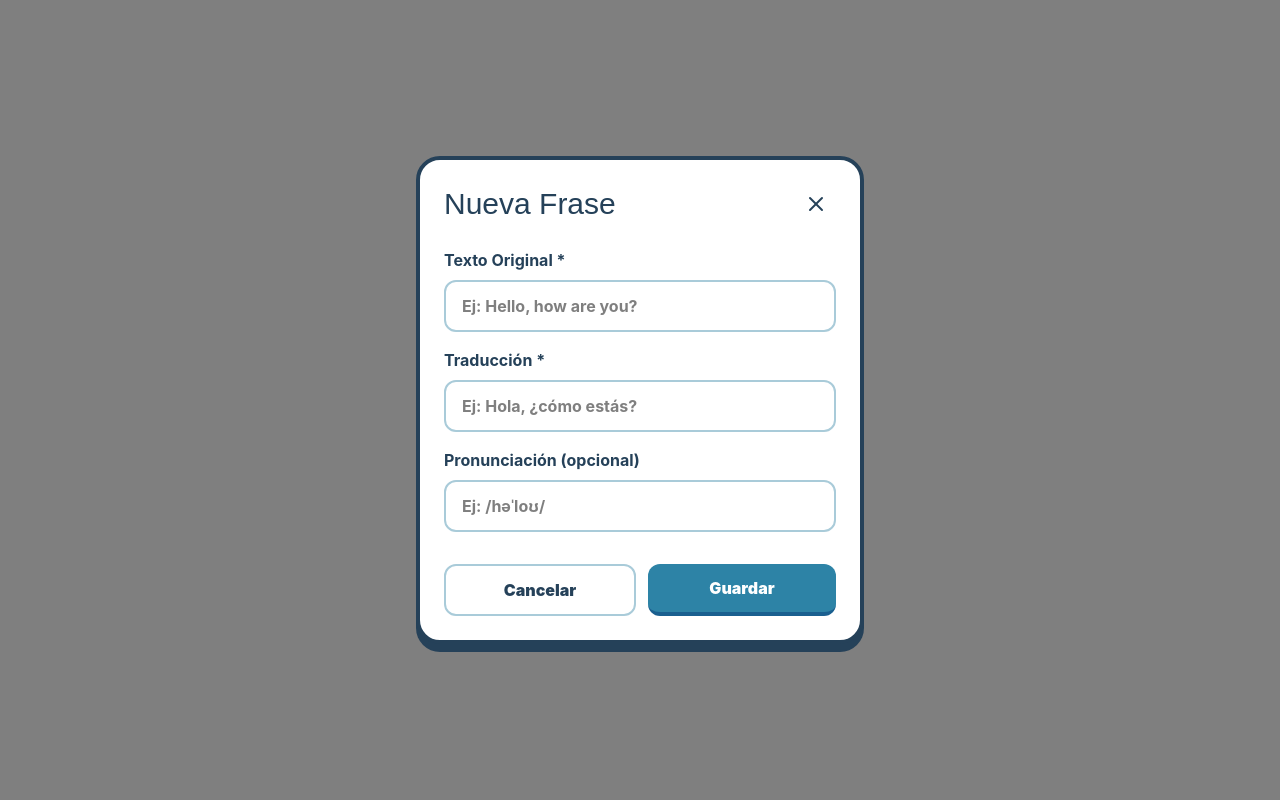
Scenario: PhraseModal › Submit behavior › disables submit button while submitting
Step 1. Type "Test" into the field with placeholder "Ej: Hello, how are you?" → (640,306), box [444, 280, 836, 332]
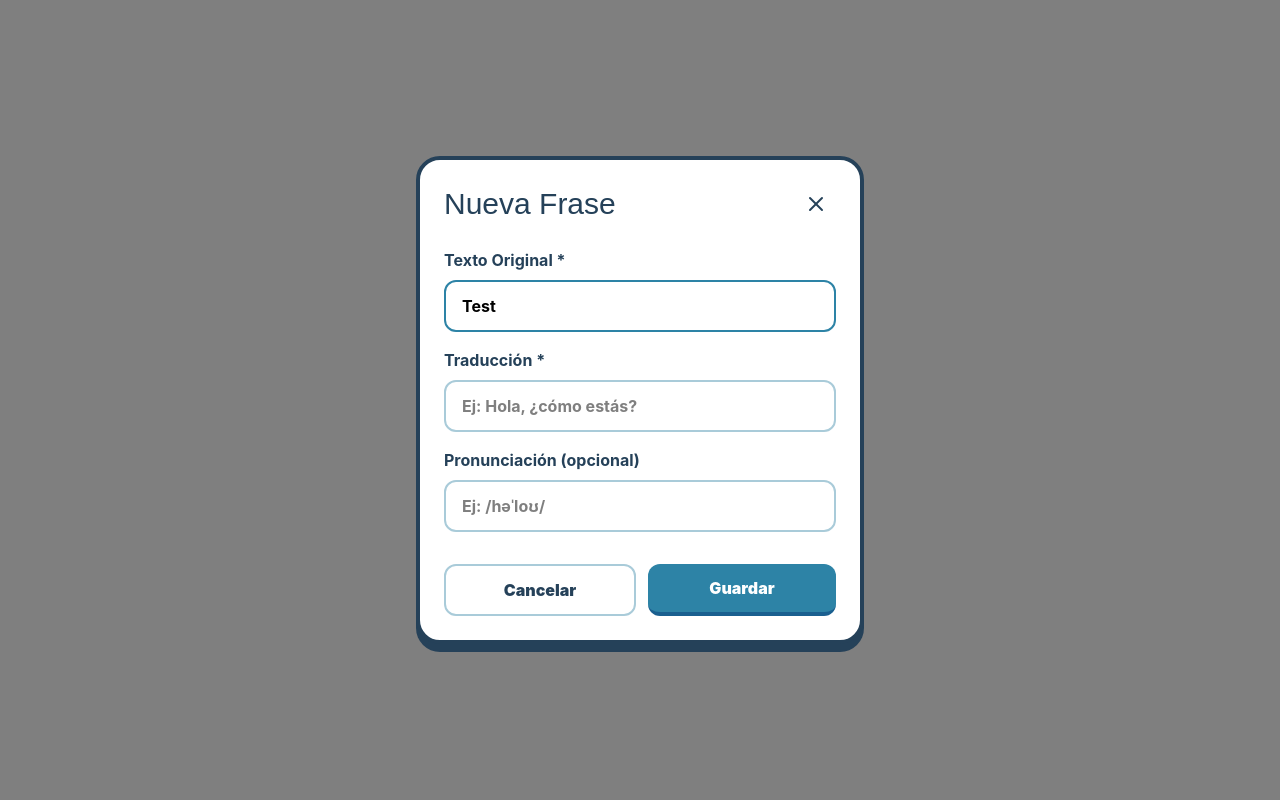
Step 2. Type "Prueba" into the field with placeholder "Ej: Hola, ¿cómo estás?" → (640,406), box [444, 380, 836, 432]
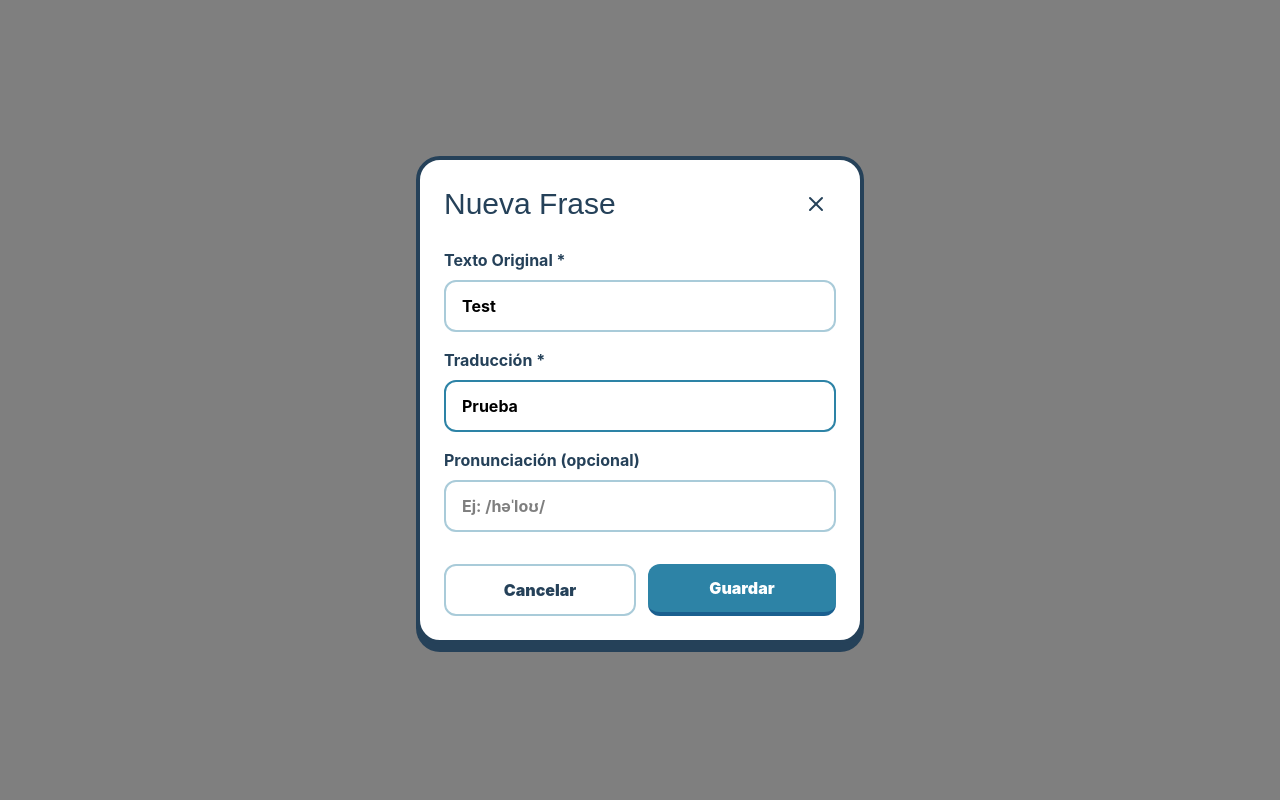
Step 3. Click the button "Guardar" → (742,590), box [648, 564, 836, 616]
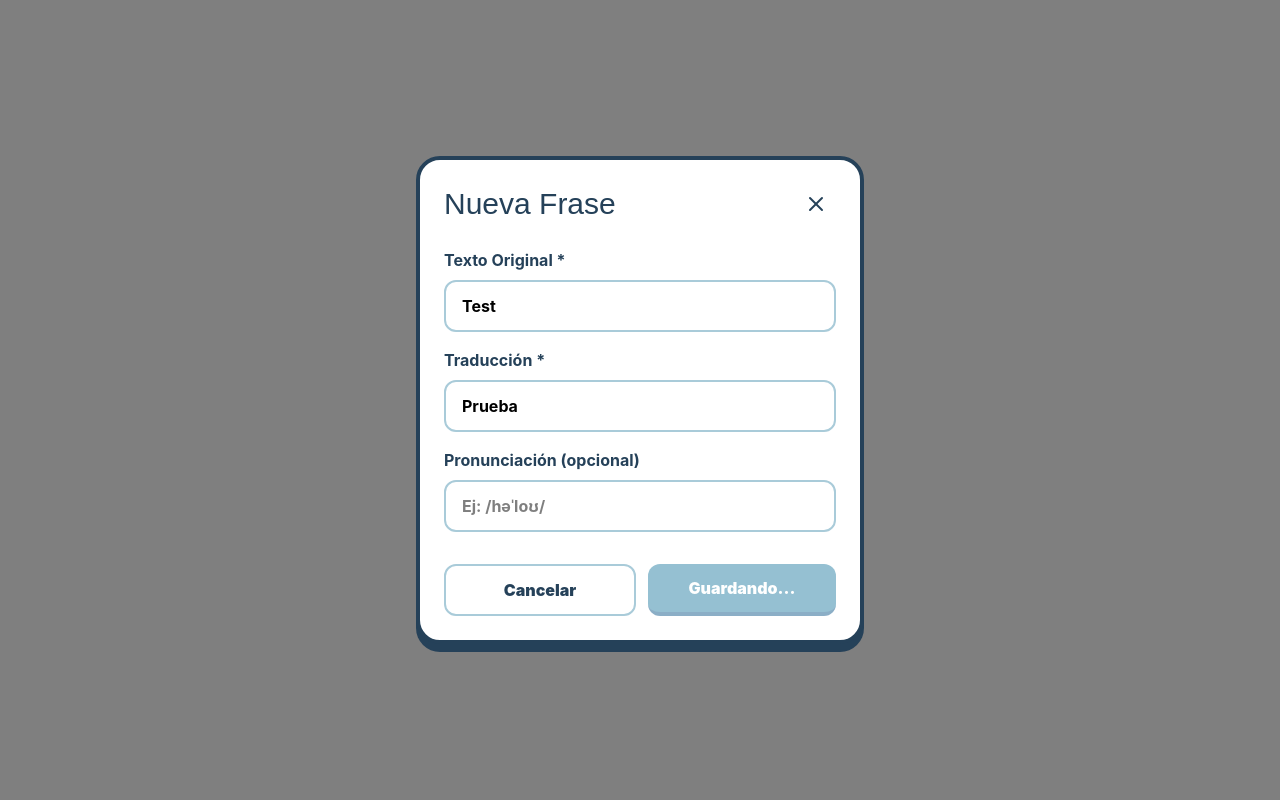
Check: the button named "guardar" is disabled, box [648, 564, 836, 616]
